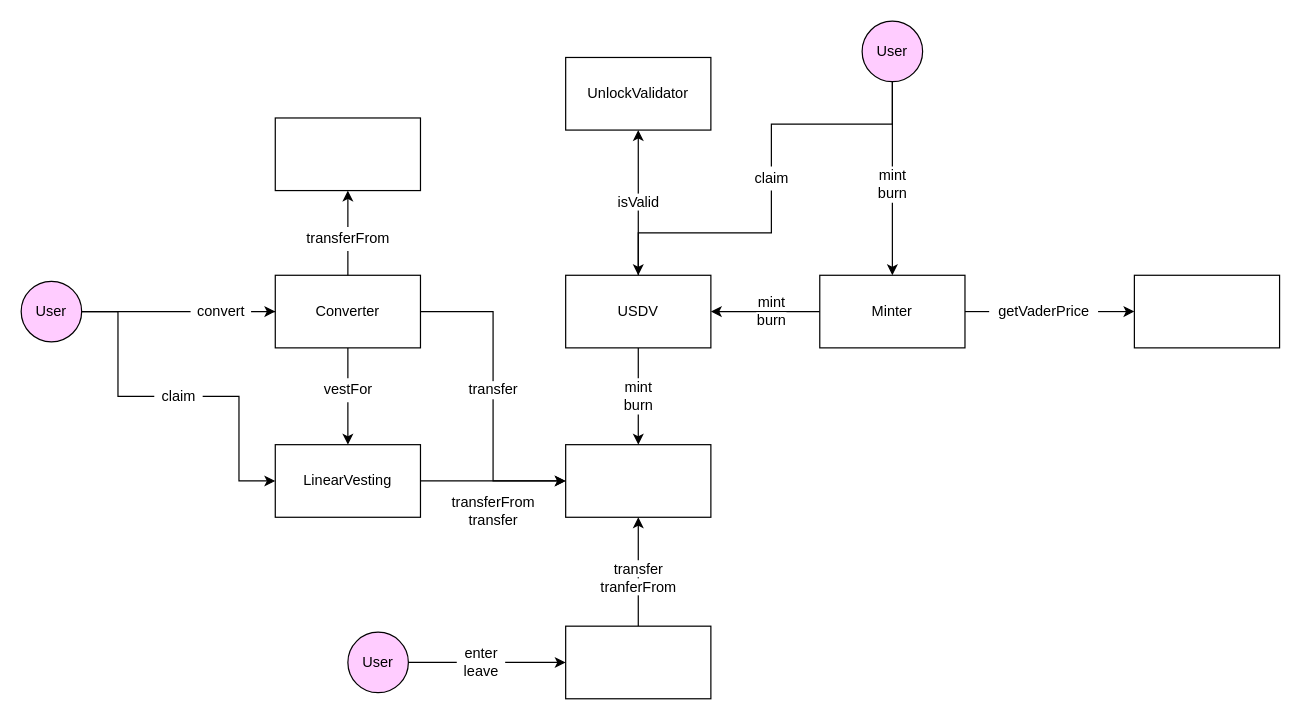
The diagram is 1301 pixels wide and 720 high, and some of its shapes have lost their labels. Here are the shapes that lost their labels. From the top down, the centre of each, then its label:
At [347,154]: "VETH".
At [1206,311]: "TWAP".
At [637,480]: "Vader".
At [637,662]: "XVader".
